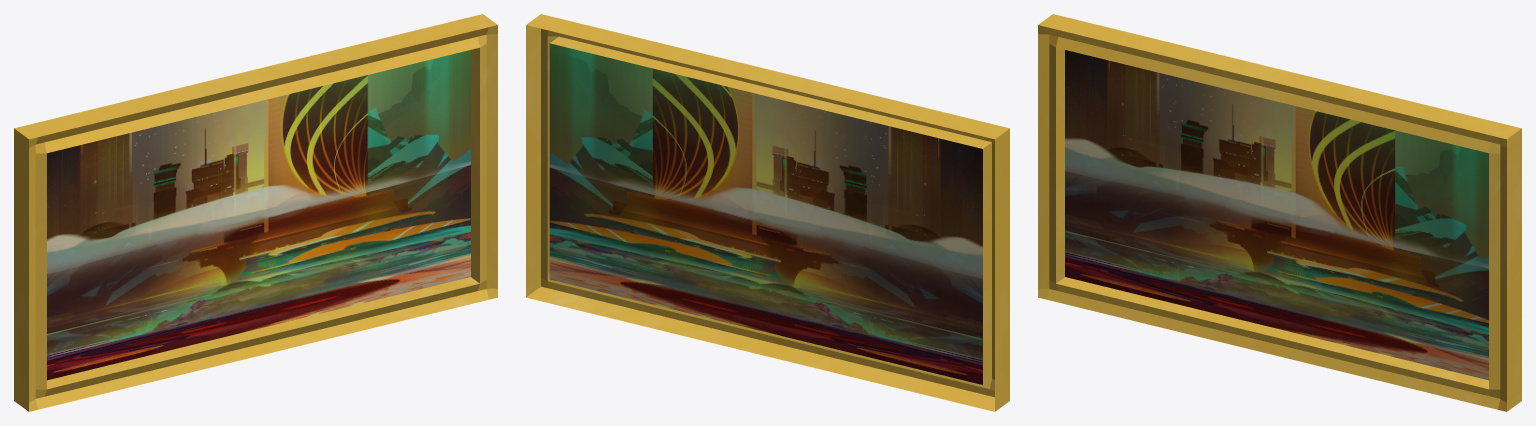
File: Quadro.fbx
3 views of the same model, side by side, from view 1: azimuth 30°, elevation 25°; view 2: azimuth 150°, elevation 25°; view 3: azimuth 330°, elevation 25° (orthographic).
Parts seen in each view (by area): view 1: Cube; view 2: Cube; view 3: Cube.
Boxes of the visible parts, box(x1,y1,x2,y2) form: Cube: box(14, 14, 497, 411); Cube: box(526, 14, 1009, 411); Cube: box(1038, 14, 1521, 411).
Size of the model in its own units: 180 by 100 by 10.
